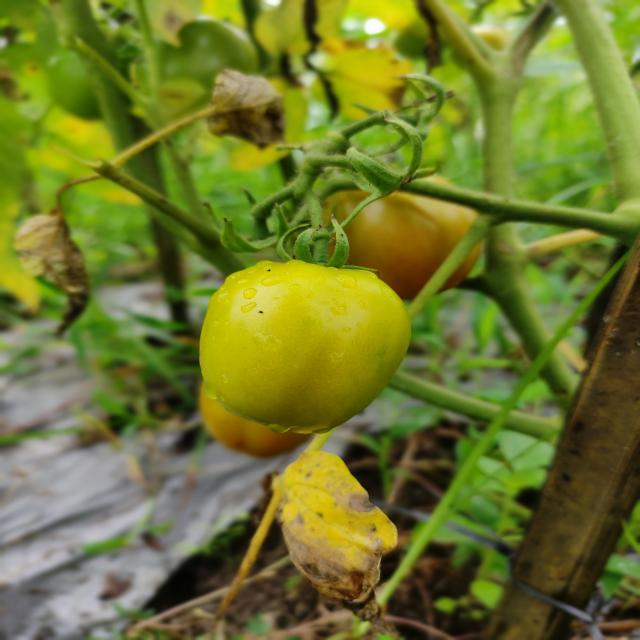ripe tomato: (320, 177, 484, 300), (197, 379, 311, 458)
unripe tomato: (197, 258, 412, 435)
